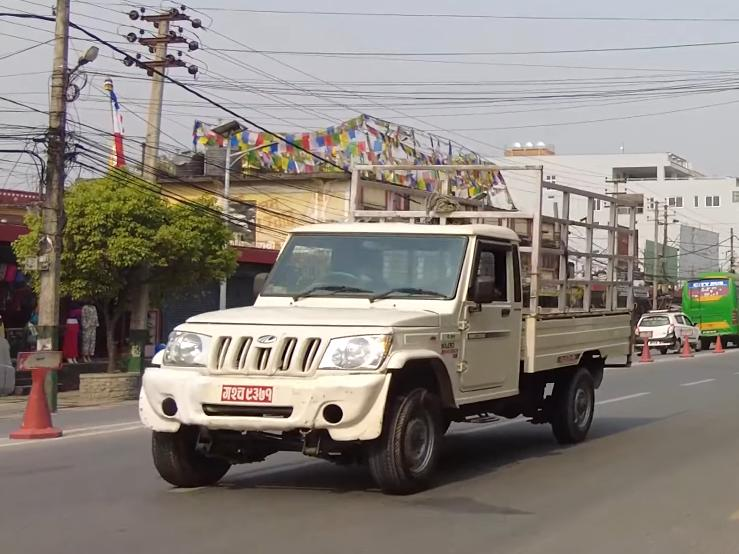bus: (673, 260, 739, 345)
taxi: (636, 304, 703, 360)
transport_vehicle: (133, 157, 633, 511)
